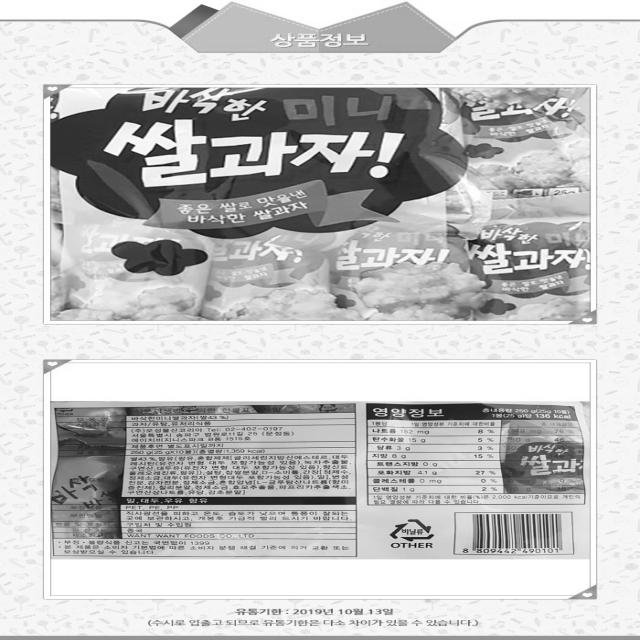Nutrition Label: (359, 394, 595, 506)
